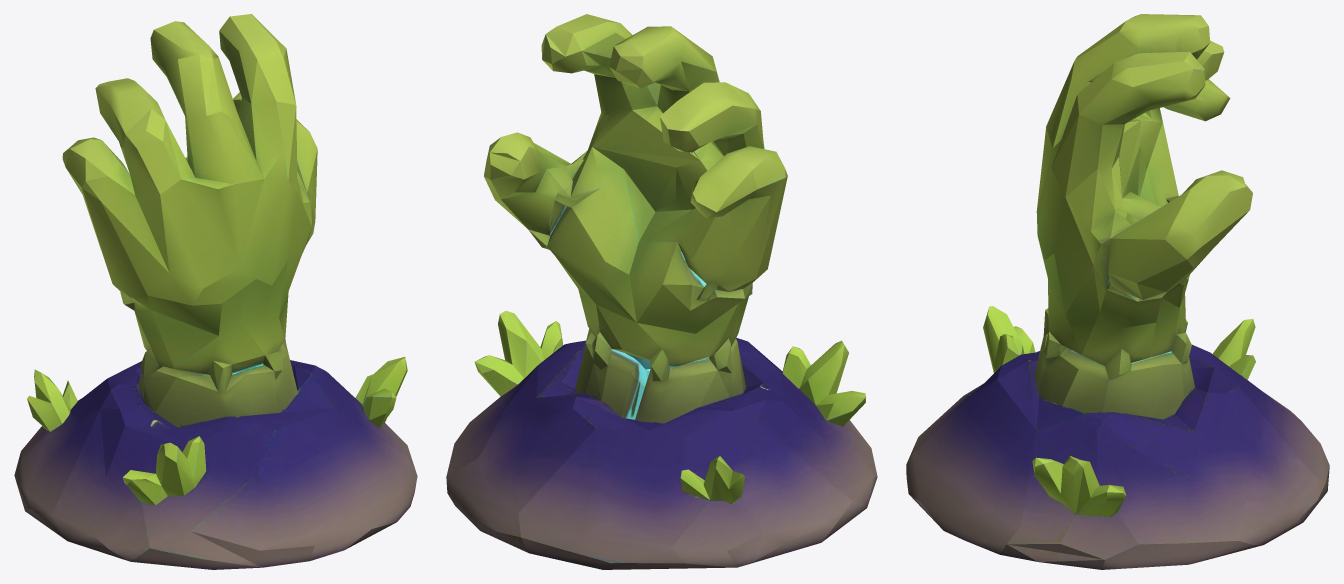
Rendered from grasp_hand.glb.
3 views of the same model, side by side, from view 1: azimuth 30°, elevation 25°; view 2: azimuth 150°, elevation 25°; view 3: azimuth 270°, elevation 25° (orthographic). The views are drawn at different scales.
Bounding box in the file's own units: 1.57 × 1.9 × 1.58.
1 material, 1 textured.
